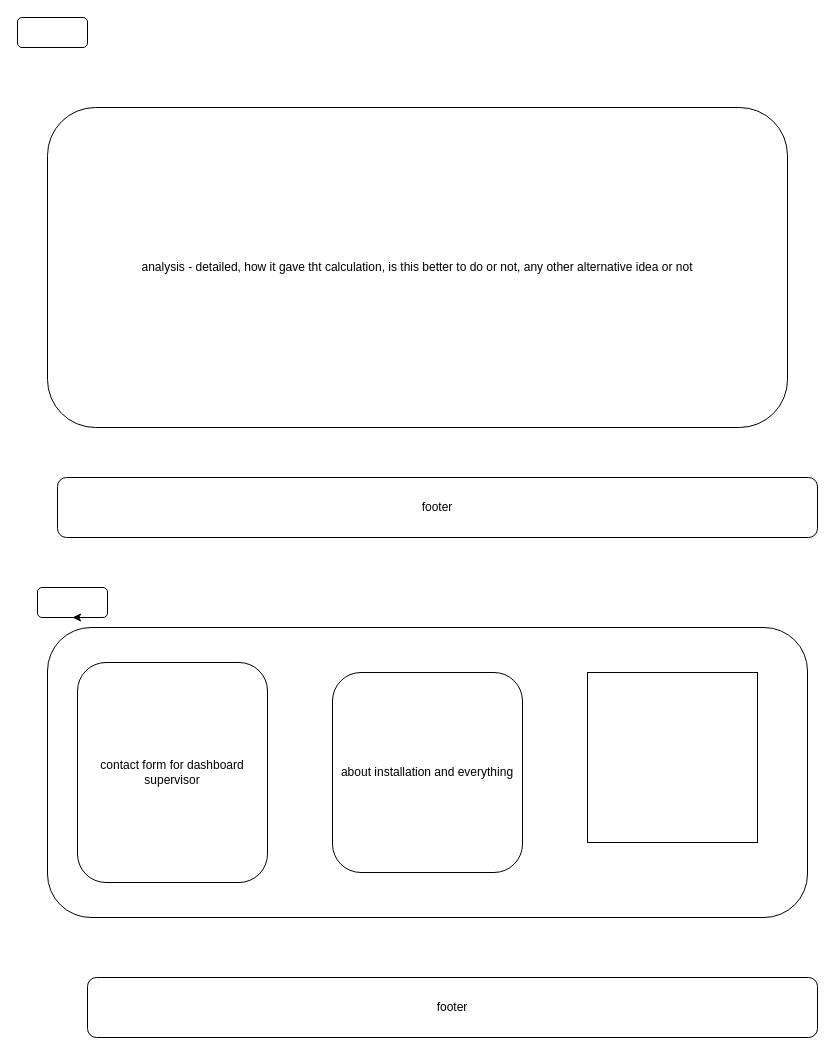
Some shapes in this 835 by 1055 pixel diagram are drawn without their labels. The shapes that lost their labels are listed below. From the top down, each one's centre as x and y in pixels, then its label:
the point at 52,32: page-3
the point at 72,602: page-4
the point at 672,757: notification for municipality
